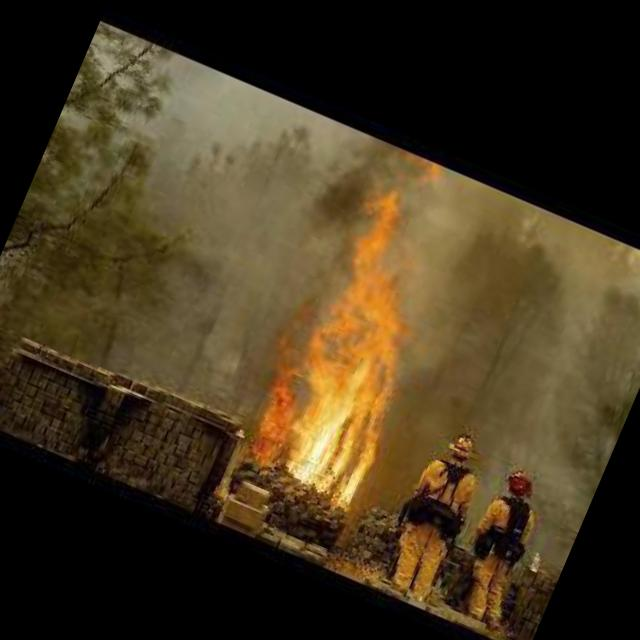fire: (242, 149, 482, 506)
smoke: (395, 185, 640, 482), (144, 192, 334, 426), (301, 149, 378, 241), (336, 126, 426, 187)
